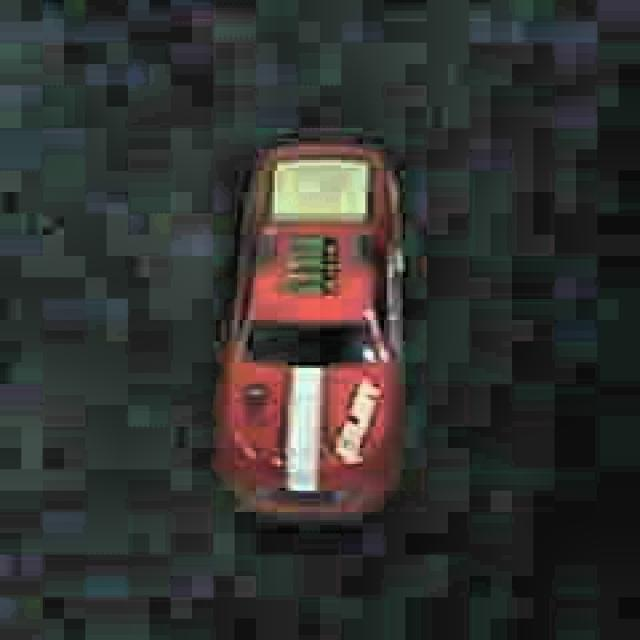car: (210, 132, 412, 518)
